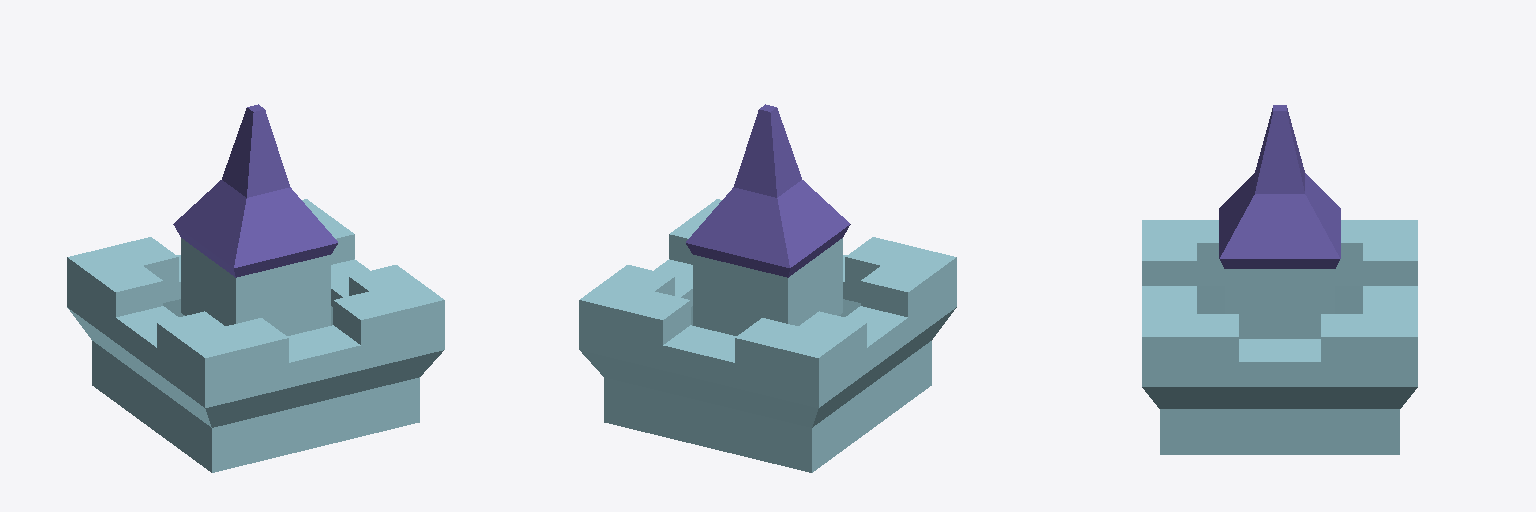
File: towerSquare_roofC.obj
The picture shows the model from 3 angles: view 1: azimuth 30°, elevation 25°; view 2: azimuth 150°, elevation 25°; view 3: azimuth 270°, elevation 25°; orthographic projection.
Visible parts, largest first — view 1: towerSquare_roofC; view 2: towerSquare_roofC; view 3: towerSquare_roofC.
Boxes of the visible parts, <box> form: towerSquare_roofC: <box>67,104,444,472</box>; towerSquare_roofC: <box>579,104,956,472</box>; towerSquare_roofC: <box>1142,105,1417,454</box>.
Size of the model in its own units: 1 by 1.18 by 1.